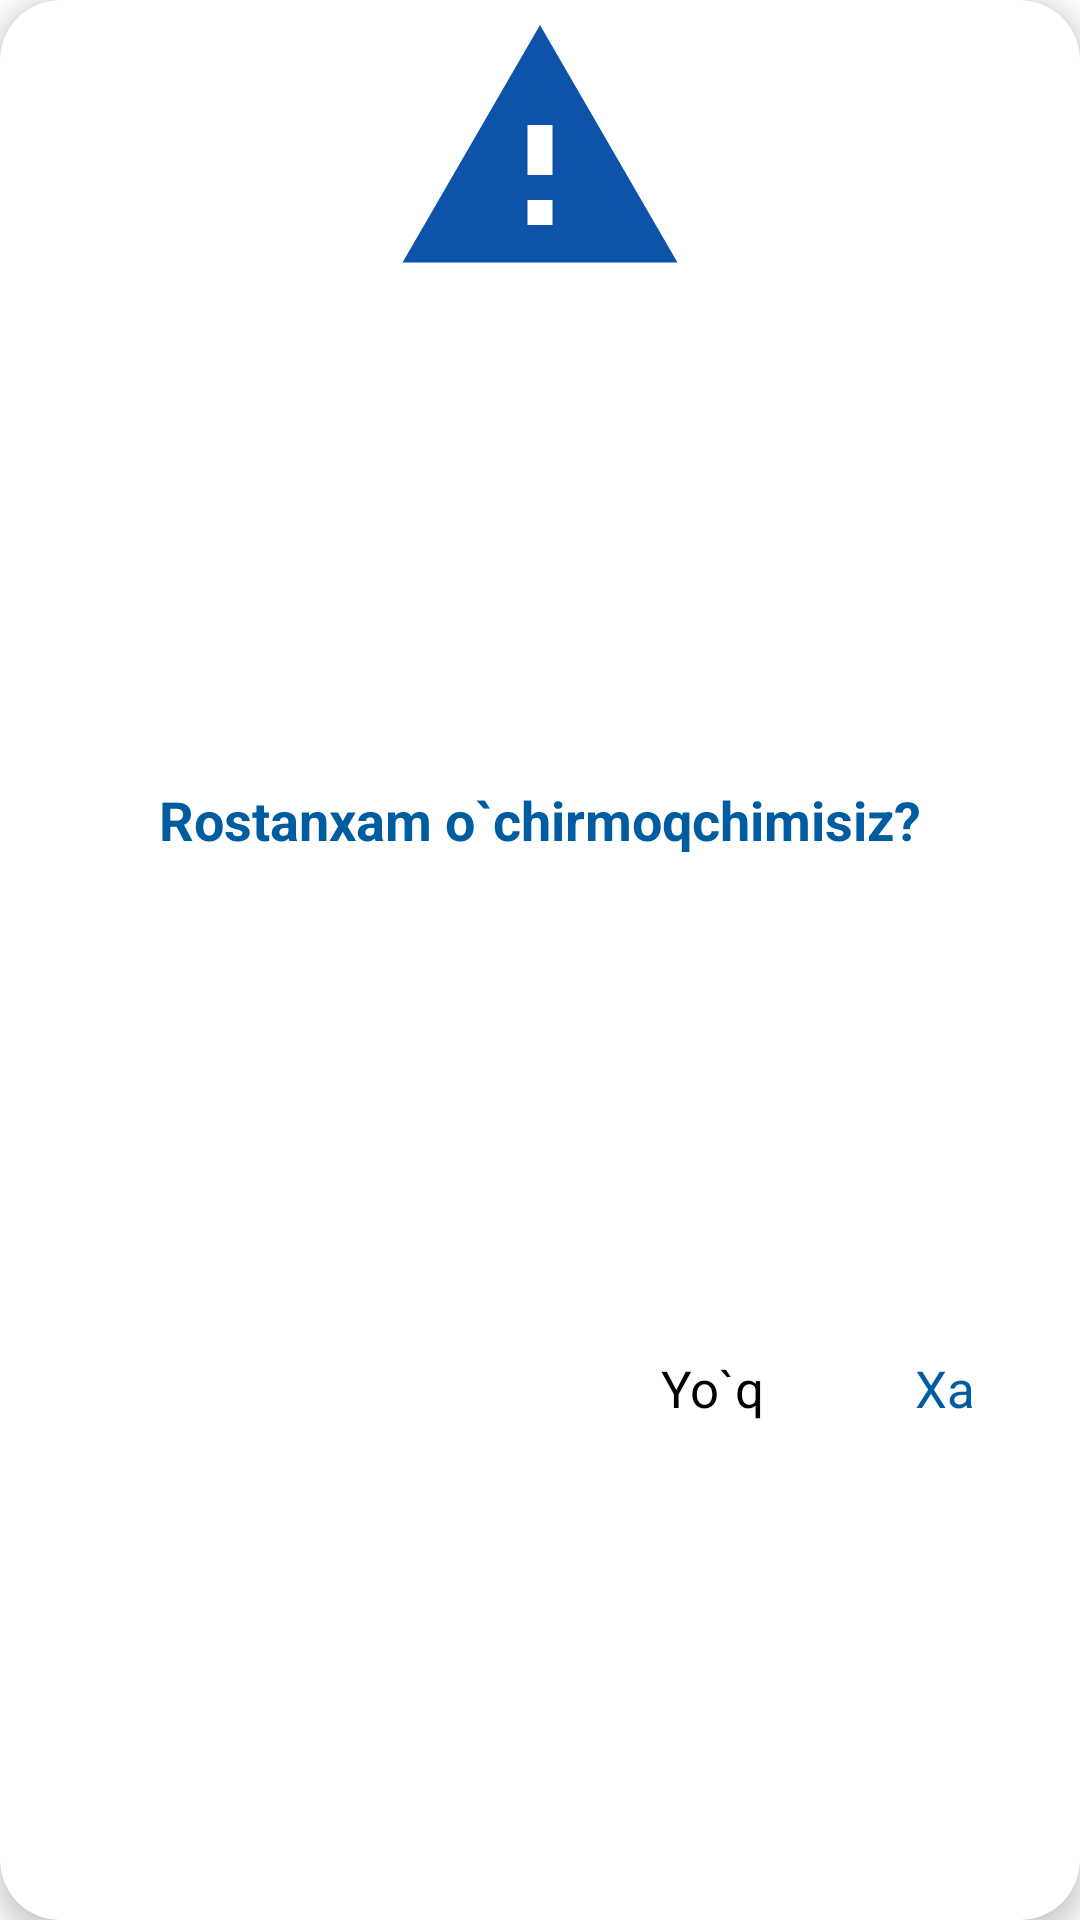

Icon click points for this 1080×1920 phone screenshot, format (x=x, y=y):
Warninig: (x=540, y=144)
